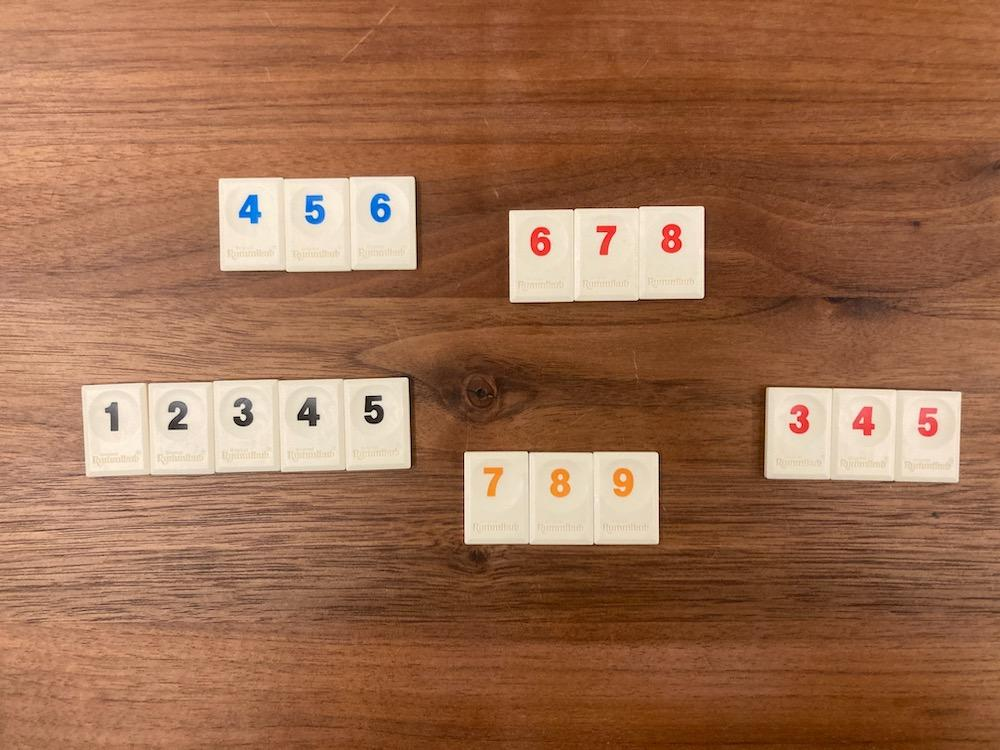black_1: (82, 385, 150, 476)
black_2: (150, 383, 214, 473)
black_3: (213, 381, 278, 472)
black_4: (280, 379, 345, 471)
black_5: (345, 377, 410, 471)
blue_4: (221, 178, 284, 270)
blue_5: (285, 178, 350, 271)
blue_6: (351, 176, 416, 270)
orange_7: (465, 451, 529, 543)
orange_8: (529, 453, 594, 545)
orange_9: (592, 451, 660, 545)
red_3: (764, 390, 832, 479)
red_4: (832, 392, 896, 480)
red_5: (895, 391, 961, 482)
red_6: (510, 211, 574, 301)
red_7: (574, 209, 639, 301)
red_8: (639, 207, 705, 299)
